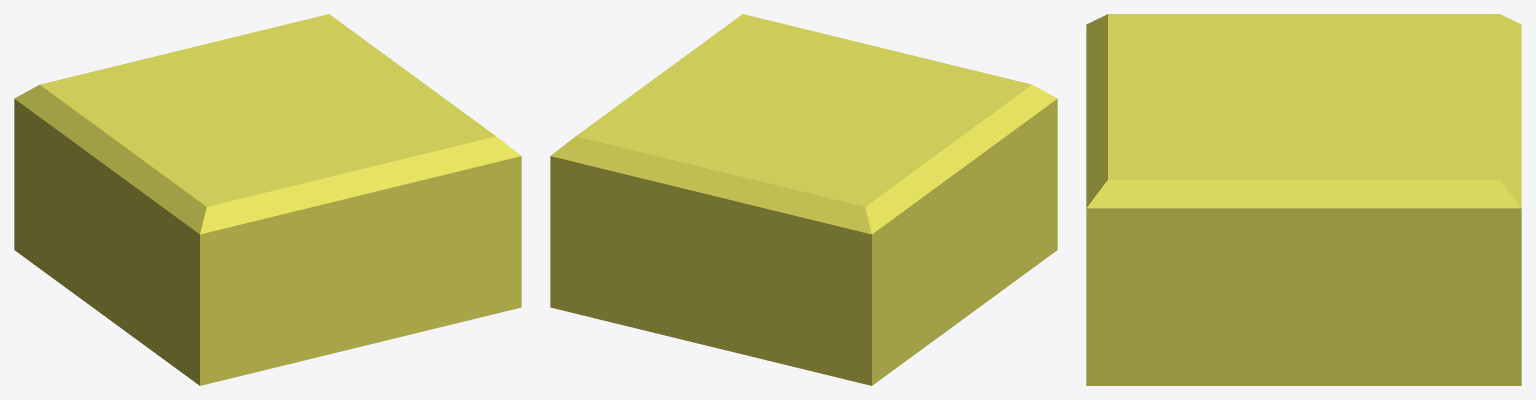
File: BtnSqu01.fbx
The picture shows the model from 3 angles, left to right: view 1: azimuth 30°, elevation 25°; view 2: azimuth 150°, elevation 25°; view 3: azimuth 270°, elevation 25°; orthographic projection. The views are drawn at different scales.
Visible parts, largest first — view 1: BtnSqu01; view 2: BtnSqu01; view 3: BtnSqu01.
Part boxes in pixels (x1,y1,x2,y2): BtnSqu01: [14, 14, 521, 385]; BtnSqu01: [550, 14, 1057, 385]; BtnSqu01: [1086, 14, 1521, 385].
Bounding box in the file's own units: 2 × 1 × 2.
